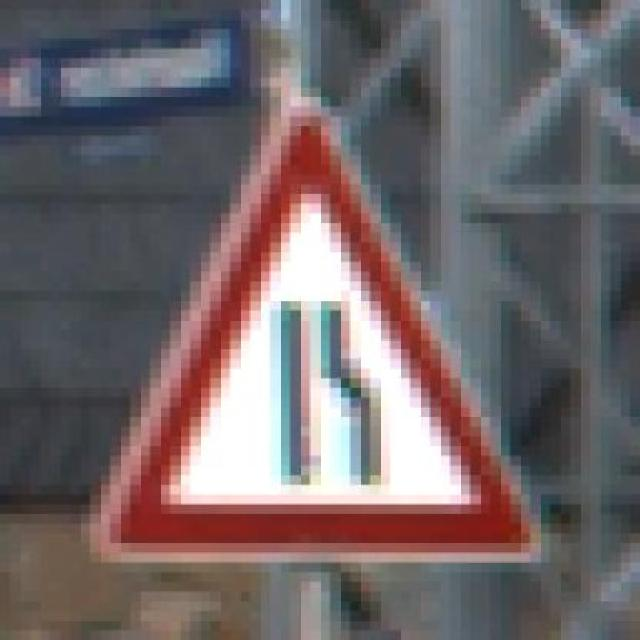-Road narrows on right: (70, 88, 550, 572)
